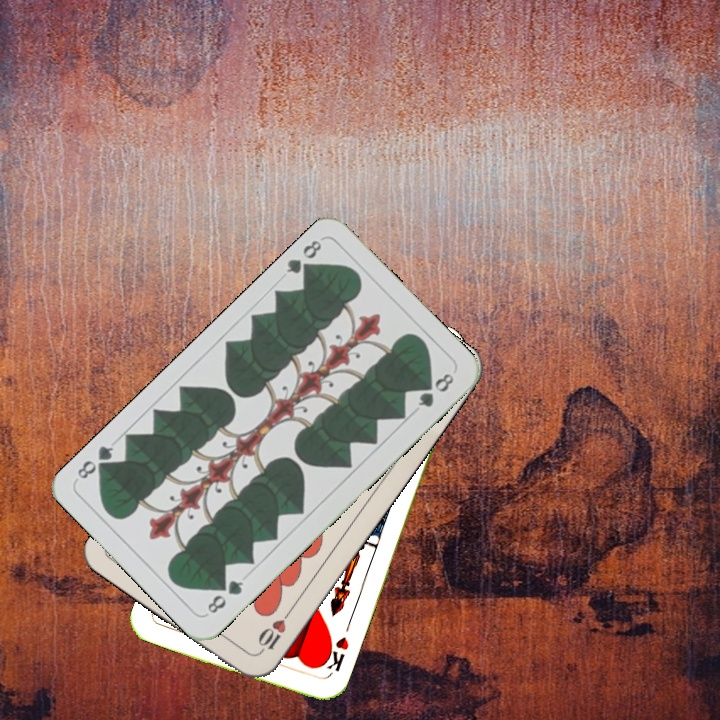G8: (282, 236, 325, 280), (203, 575, 246, 616)
H10: (253, 605, 295, 656)
HK: (316, 632, 352, 681)
